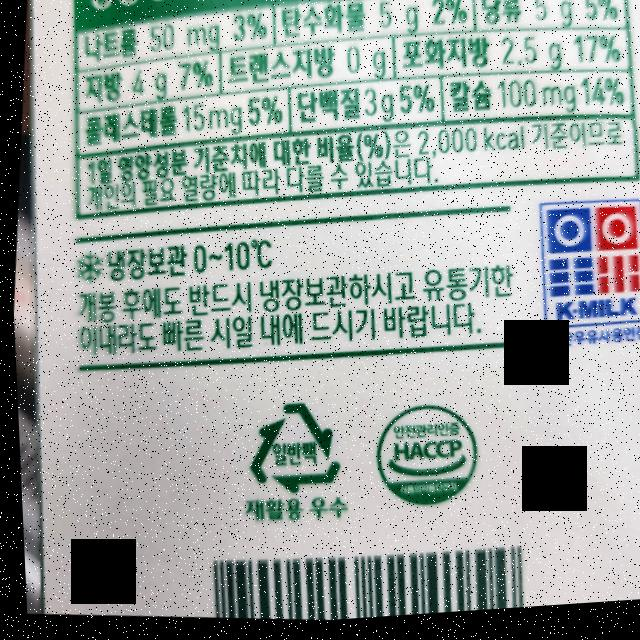NormalPack: (237, 395, 343, 502)
